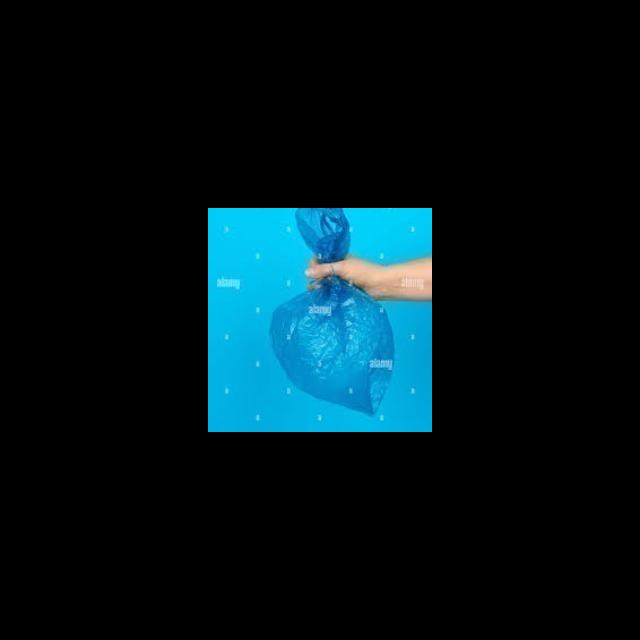plastic: (262, 208, 398, 418)
